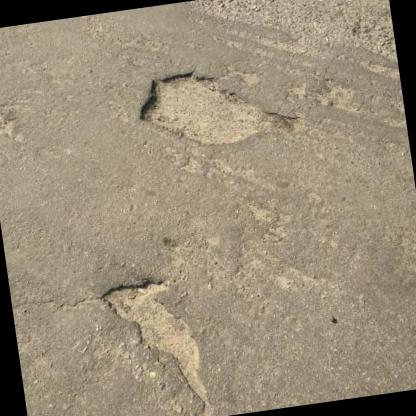pothole: (129, 52, 306, 160), (98, 270, 217, 416), (0, 98, 22, 148)
